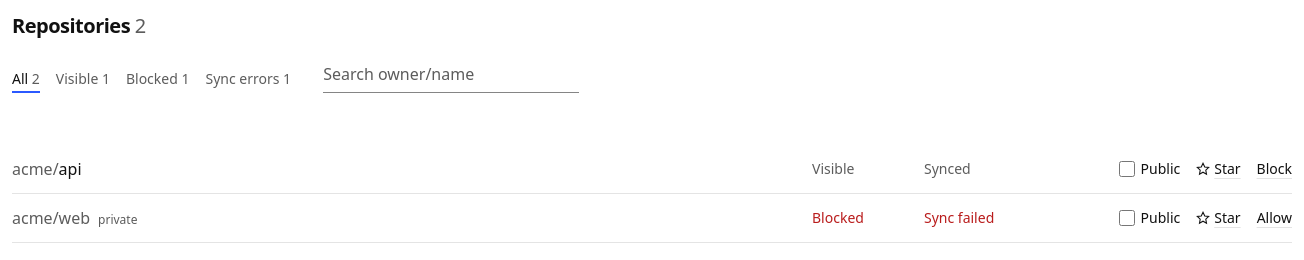
RepoAccessManager › filters by access and search
This screenshot has width=1304, height=260.
Step 1. Click the button "Blocked 1" → click(158, 81), box left=126, top=69, right=189, bottom=93
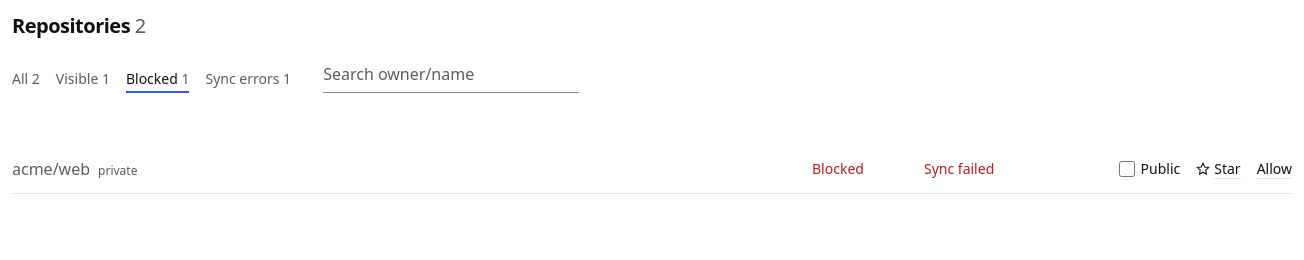
Check: the text "web" is shown, box left=59, top=158, right=90, bottom=180
Check: the text "api" is gone
Step 2. Click the button "All 2" → click(26, 81), box left=12, top=69, right=40, bottom=93
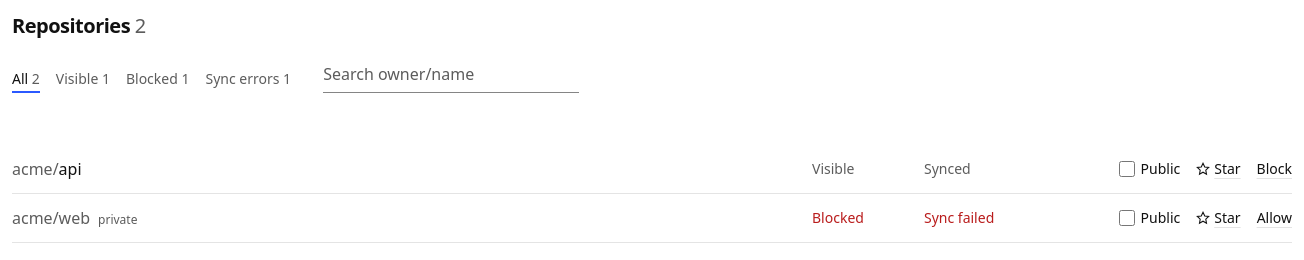
Step 3. Type "api" into the search field named "Search repositories" → (451, 74), box left=323, top=56, right=579, bottom=93
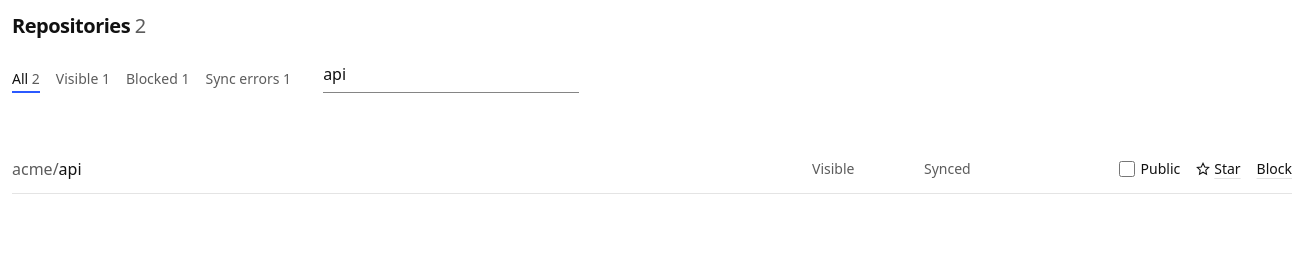
Check: the text "web" is gone
